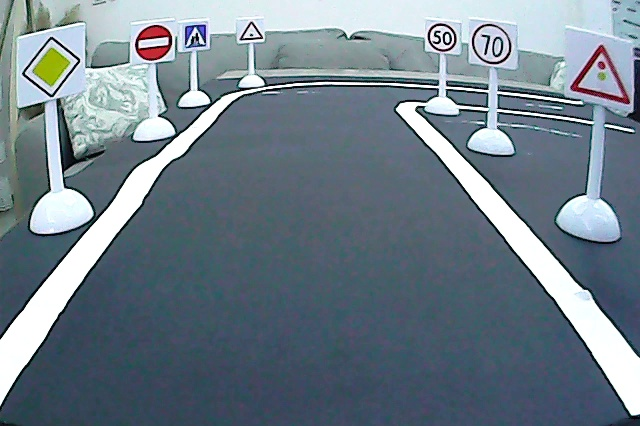do not enter: (132, 22, 174, 63)
green light: (238, 19, 265, 42)
red light: (568, 42, 632, 110)
school crossing: (183, 24, 210, 51)
speed limit 50: (427, 22, 459, 54)
speed limit 70: (470, 20, 514, 66)
